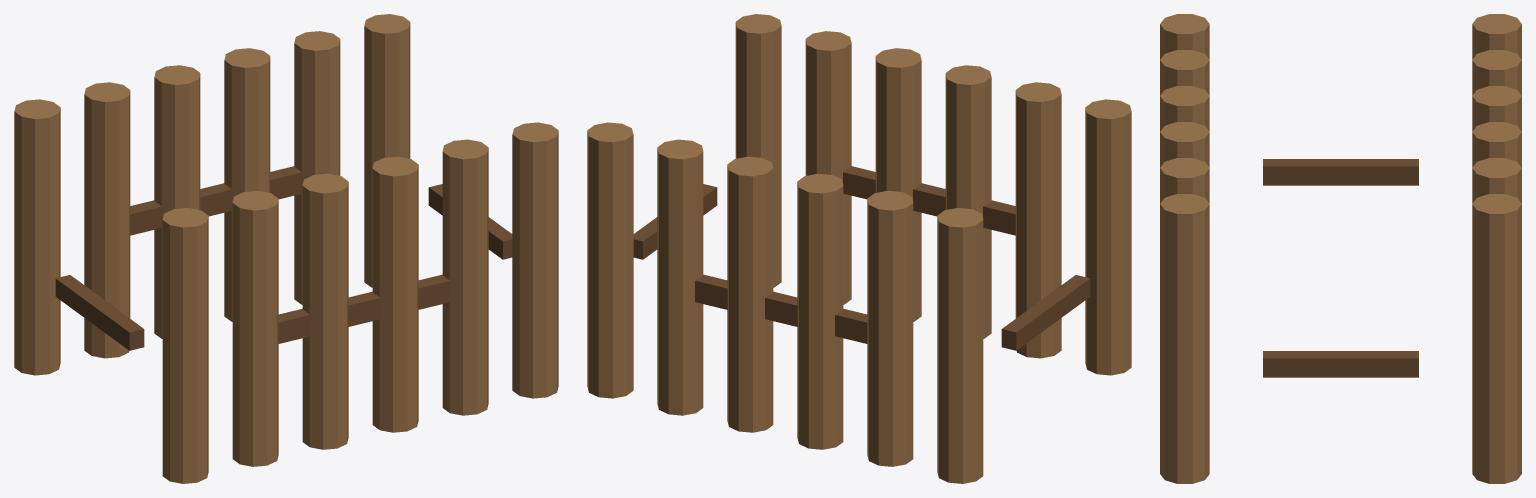
The model's file is field-palisade.glb.
3 renders of one model, left to right at view 1: azimuth 30°, elevation 25°; view 2: azimuth 150°, elevation 25°; view 3: azimuth 270°, elevation 25°, orthographic. The views are drawn at different scales.
Visible parts, largest first — view 1: stake_-1_5, stake_-1_1, stake_-1_0, stake_1_0, stake_-1_4, stake_-1_2, stake_-1_3, stake_1_1, stake_1_5, stake_1_4, stake_1_3, stake_1_2 (+4 smaller); view 2: stake_1_5, stake_1_1, stake_1_0, stake_-1_0, stake_1_4, stake_1_2, stake_1_3, stake_-1_1, stake_-1_5, stake_-1_4, stake_-1_3, stake_-1_2 (+4 smaller); view 3: stake_1_5, stake_-1_5, side_rail, side_rail.001, stake_1_0, stake_1_1, stake_-1_0, stake_-1_1, stake_1_2, stake_-1_2, stake_1_3, stake_1_4 (+2 smaller).
Boxes of the visible parts, <box> form: stake_-1_5: <box>512,122,558,398</box>; stake_-1_1: <box>232,190,278,466</box>; stake_-1_0: <box>162,208,208,483</box>; stake_1_0: <box>14,99,60,375</box>; stake_-1_4: <box>442,139,488,415</box>; stake_-1_2: <box>302,173,348,449</box>; stake_-1_3: <box>372,156,418,432</box>; stake_1_1: <box>84,82,130,358</box>; stake_1_5: <box>364,14,410,287</box>; stake_1_4: <box>294,31,340,304</box>; stake_1_3: <box>224,48,270,321</box>; stake_1_2: <box>154,65,200,338</box>; stake_1_5: <box>587,122,633,398</box>; stake_1_1: <box>867,190,913,466</box>; stake_1_0: <box>937,208,983,483</box>; stake_-1_0: <box>1085,99,1131,375</box>; stake_1_4: <box>657,139,703,415</box>; stake_1_2: <box>797,173,843,449</box>; stake_1_3: <box>727,156,773,432</box>; stake_-1_1: <box>1015,82,1061,358</box>; stake_-1_5: <box>735,14,781,287</box>; stake_-1_4: <box>805,31,851,304</box>; stake_-1_3: <box>875,48,921,321</box>; stake_-1_2: <box>945,65,991,338</box>; stake_1_5: <box>1472,194,1521,483</box>; stake_-1_5: <box>1160,194,1209,483</box>; side_rail: <box>1263,159,1418,185</box>; side_rail.001: <box>1263,351,1418,377</box>; stake_1_0: <box>1472,14,1521,59</box>; stake_1_1: <box>1472,50,1521,95</box>; stake_-1_0: <box>1160,14,1209,59</box>; stake_-1_1: <box>1160,50,1209,95</box>; stake_1_2: <box>1472,86,1521,131</box>; stake_-1_2: <box>1160,86,1209,131</box>; stake_1_3: <box>1472,122,1521,167</box>; stake_1_4: <box>1472,158,1521,203</box>.
Bounding box in the file's own units: 0.6666 × 0.42 × 0.51.
